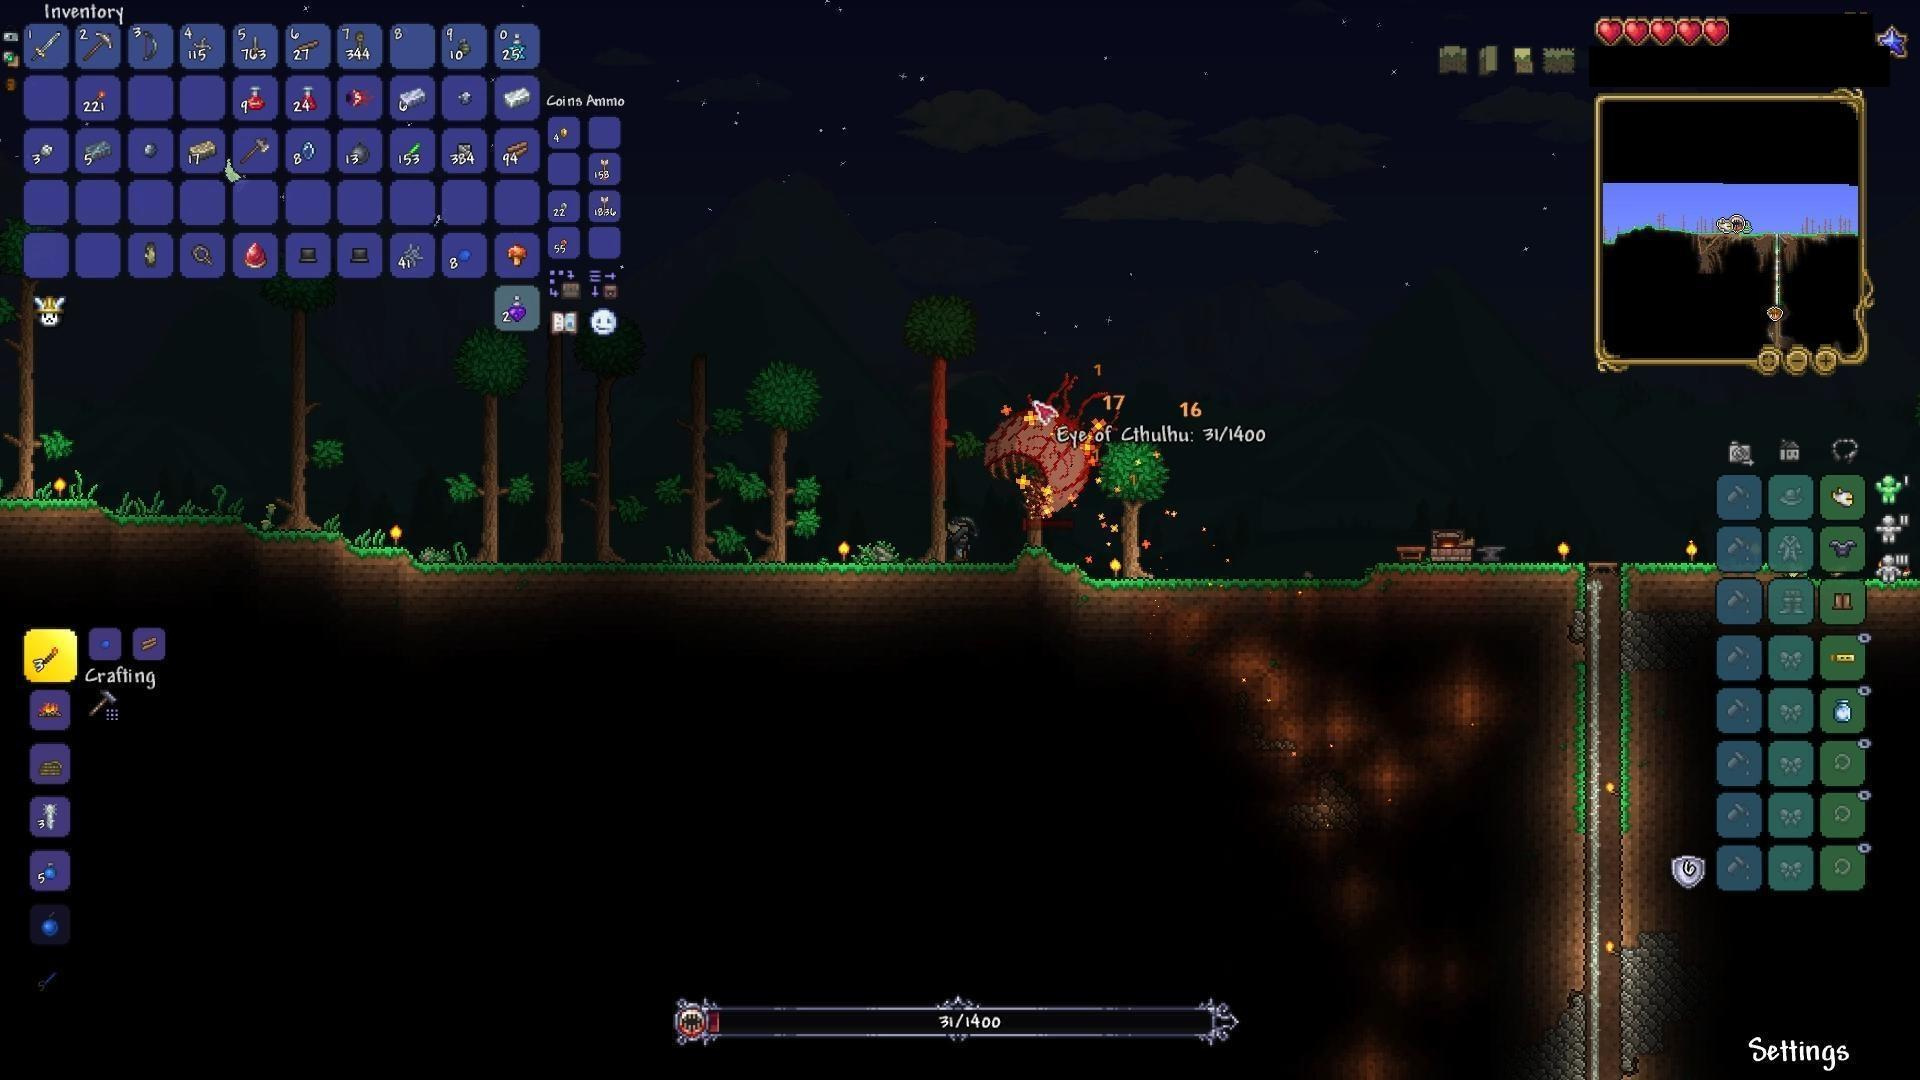dirt: (0, 491, 443, 587), (422, 551, 1018, 612), (1023, 555, 1586, 603), (1547, 663, 1593, 981), (1613, 663, 1650, 942), (1622, 556, 1713, 601)
heart: (1702, 17, 1733, 51), (1593, 16, 1626, 46), (1676, 15, 1704, 50), (1650, 16, 1676, 49), (1625, 15, 1651, 44)
stone: (1618, 947, 1643, 1072), (1565, 994, 1592, 1080), (1614, 612, 1654, 662)
tree: (903, 290, 975, 582), (460, 315, 527, 564), (746, 356, 816, 567), (273, 289, 327, 549), (1104, 431, 1182, 583), (0, 345, 47, 522)
